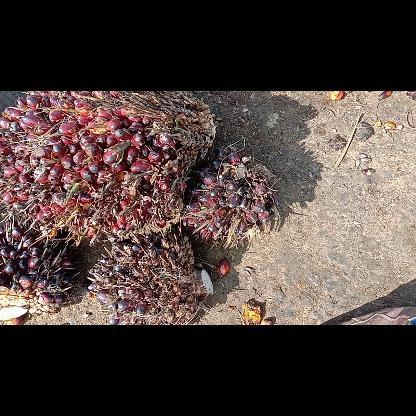TBS abnormal: (87, 242, 211, 324), (179, 150, 277, 244), (0, 242, 80, 306)
TBS masak: (2, 90, 216, 240)
